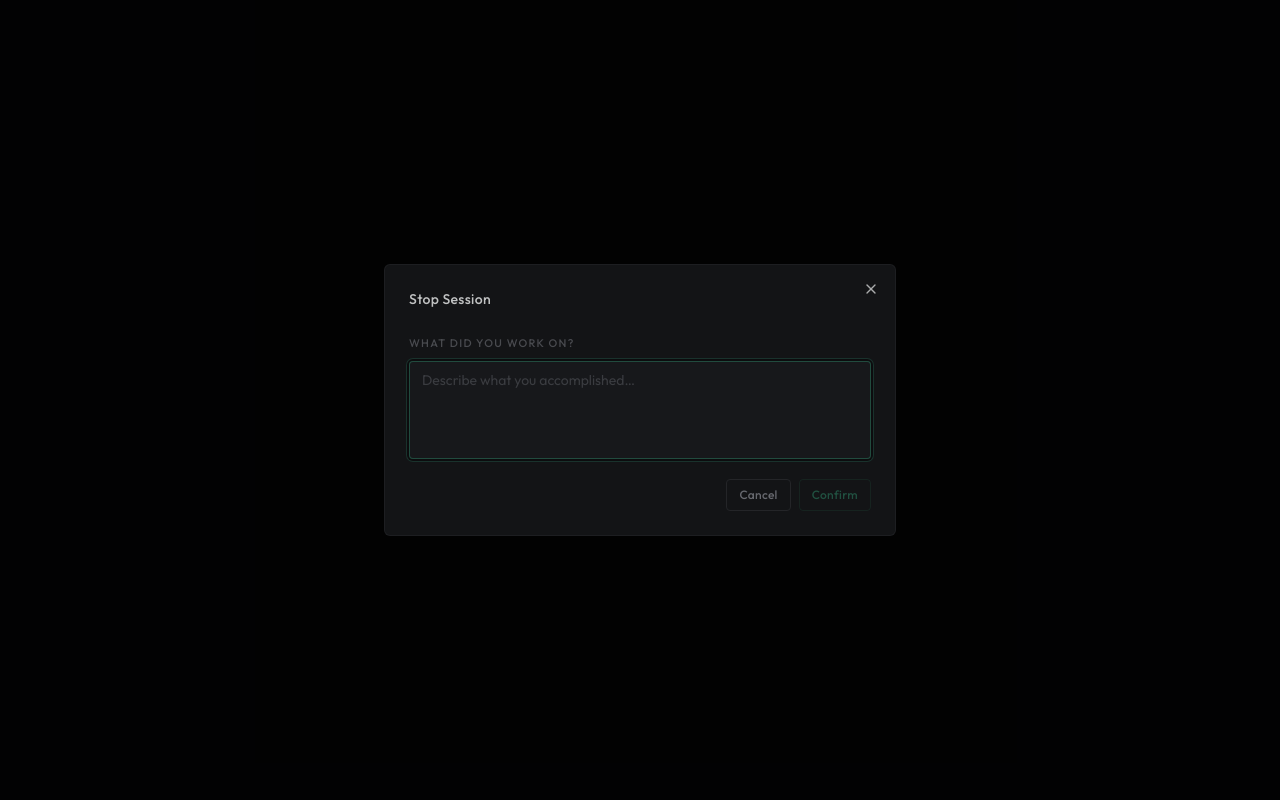
Test: StopDialog › Confirm button is enabled when summary has text
Type "Finished feature X" into the text box at {"x": 640, "y": 410}, box x1=409 y1=361 x2=871 y2=459
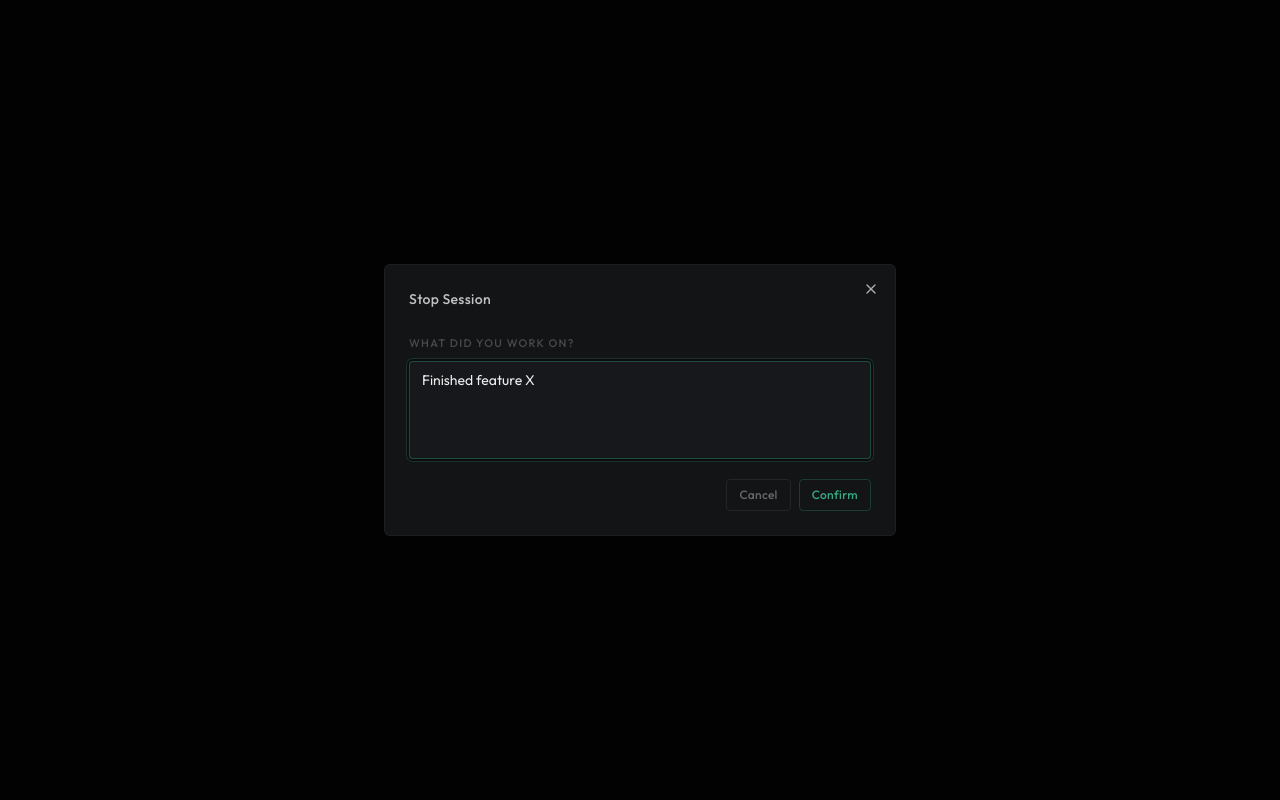
Expected: the button "Confirm" is enabled, x1=799 y1=479 x2=871 y2=511
